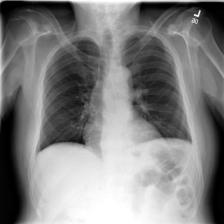normal: (29, 25, 197, 156)
